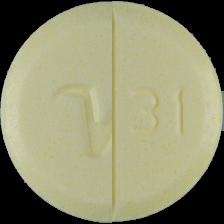0603-5372: (0, 0, 224, 224)
